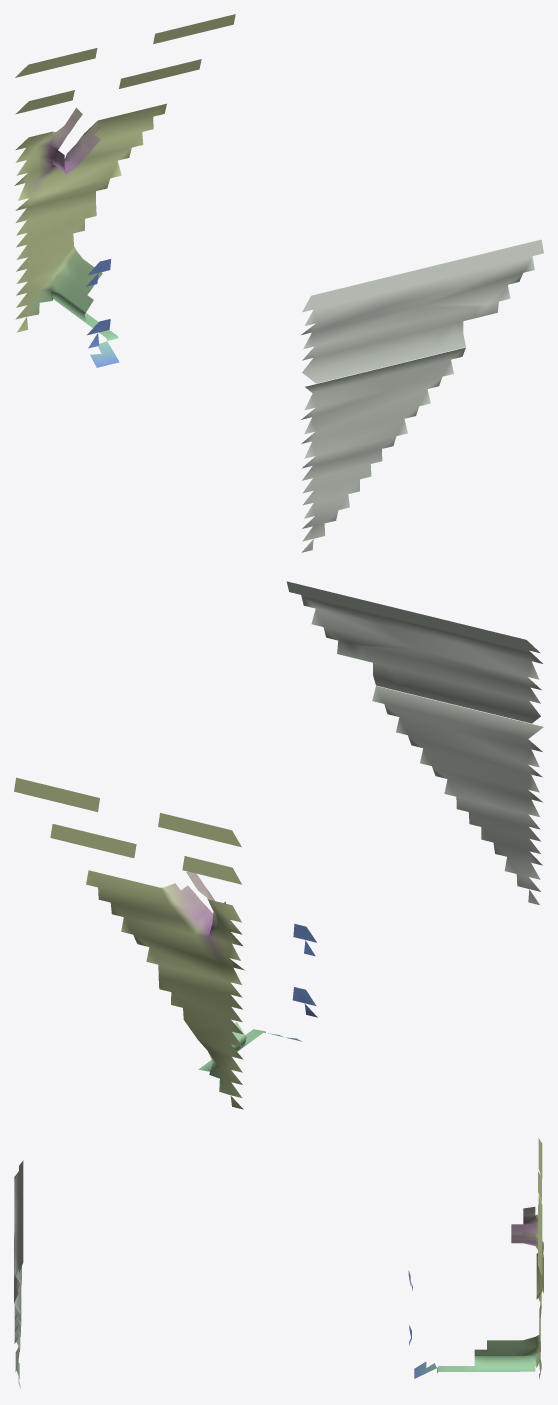
File: tile_7e4ccbd5fe0e_0_1_0_0_lod1.glb
3 views of the same model, one above another, from view 1: azimuth 30°, elevation 25°; view 2: azimuth 150°, elevation 25°; view 3: azimuth 270°, elevation 25° (orthographic). The views are drawn at different scales.
Bounding box in the file's own units: 1.68 × 1.84 × 3.5.
